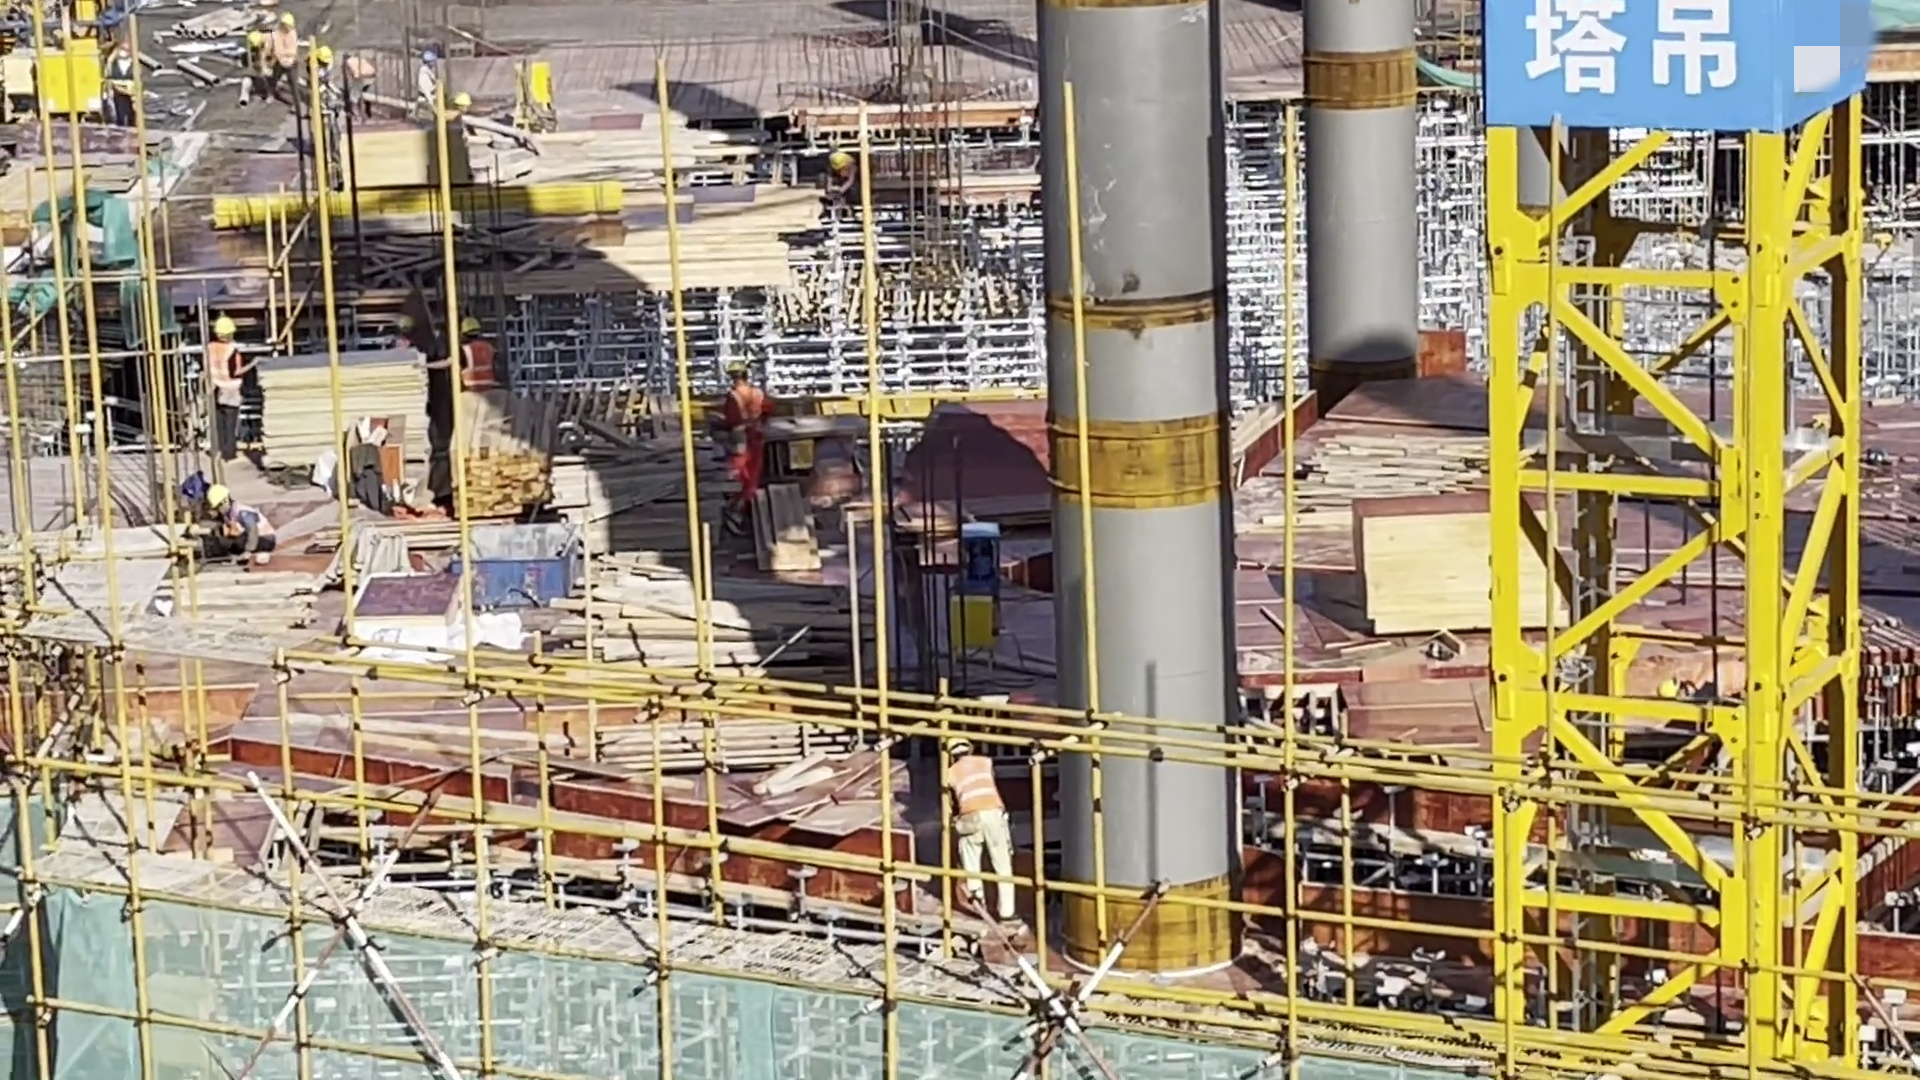board: (1341, 464, 1589, 611), (224, 366, 424, 477), (336, 122, 469, 211)
cutter: (893, 474, 989, 632)
ebox: (36, 44, 109, 134), (519, 57, 586, 147), (959, 609, 1019, 689)
helmet: (458, 317, 483, 342), (216, 316, 240, 343), (418, 44, 442, 68), (724, 361, 747, 386), (207, 482, 228, 508), (116, 40, 141, 58), (1663, 679, 1684, 699), (953, 736, 974, 754), (829, 153, 848, 169), (319, 43, 332, 62), (247, 26, 260, 45), (282, 15, 294, 30)
hopper: (449, 509, 593, 607)
person: (936, 733, 1021, 928), (1664, 658, 1776, 736), (721, 361, 767, 539), (204, 477, 277, 569), (204, 325, 245, 465), (460, 316, 515, 405), (821, 146, 878, 202), (420, 46, 459, 125), (105, 34, 140, 123), (275, 7, 303, 114), (241, 19, 285, 76), (315, 45, 346, 98)
vest: (731, 379, 769, 461), (1686, 662, 1766, 697), (956, 754, 996, 824), (214, 506, 274, 542), (470, 345, 503, 398), (206, 341, 234, 401), (119, 49, 143, 101), (300, 52, 336, 84), (412, 68, 437, 105), (280, 25, 295, 68), (253, 44, 273, 78), (843, 166, 863, 191)
wood: (449, 427, 598, 544), (609, 561, 824, 632), (579, 467, 723, 564)
